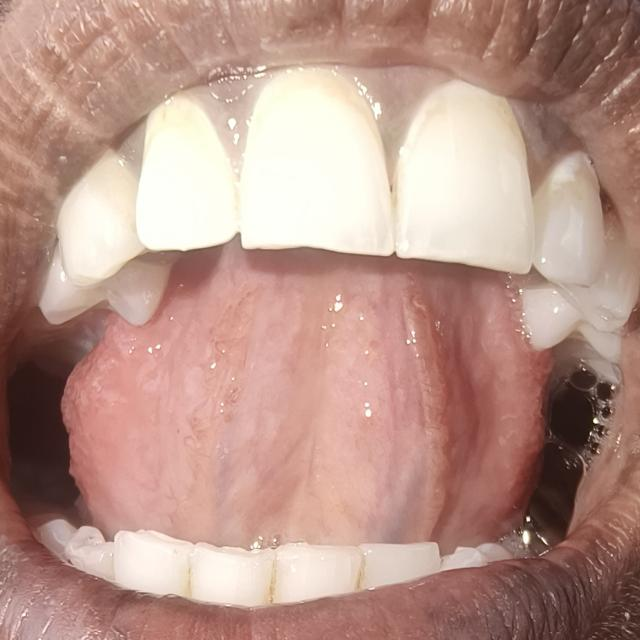processing_area: (58, 264, 557, 557)
